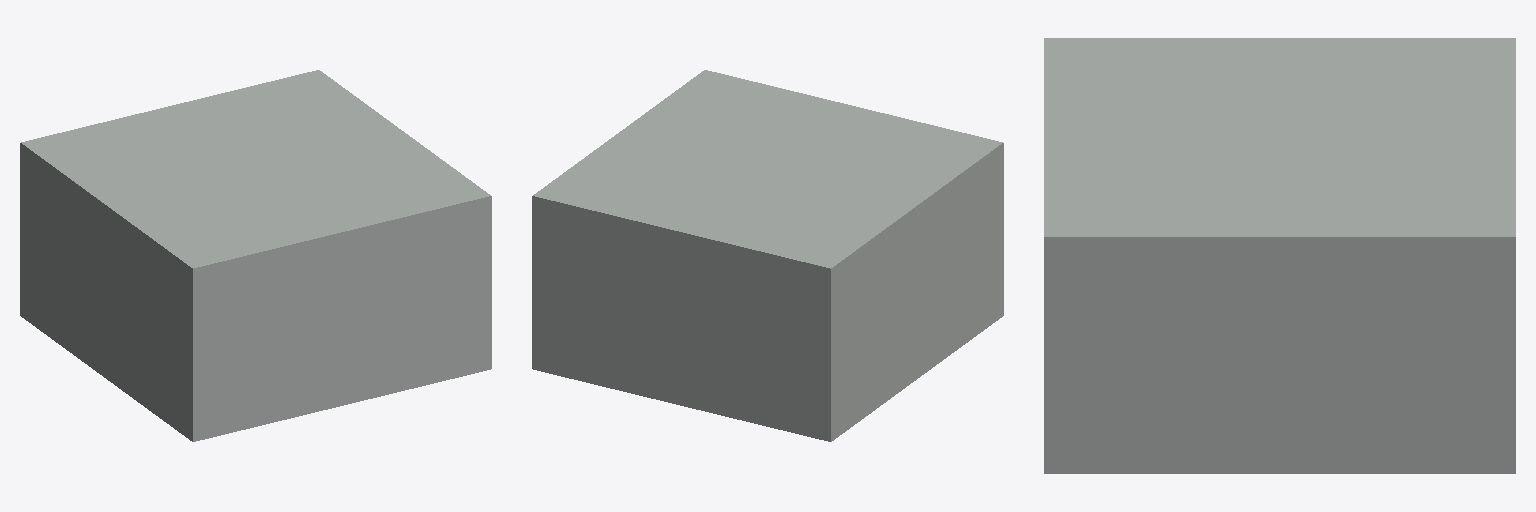
The robot description file, URDF, robot "rect":
<?xml version="1.0"?>
<robot name="rect">
  <link name="rect_base_link">
    <contact>
      <lateral_friction value="0.5"/>
      <spinning_friction value=".001"/>
    </contact>
    <inertial>
      <origin rpy="0 0 0" xyz="0 0 0"/>
      <mass value="2.0"/>
      <inertia ixx="1" ixy="0" ixz="0" iyy="1" iyz="0" izz="1"/>
    </inertial>
    <visual>
      <origin rpy="0 0 0" xyz="0.0 0.0 0.0"/>
      <geometry>
        <box size="0.09 0.09 0.05"/>
      </geometry>
      <material name="rectmat">
        <color rgba="0.7148 0.7344 0.7188 1"/>
      </material>
    </visual>
    <collision>
      <origin rpy="0 0 0" xyz="0.0 0.0 0.0"/>
      <geometry>
        <box size="0.09 0.09 0.05"/>
      </geometry>
    </collision>
  </link>
</robot>

--- Facts derived from the render (not from the file) ---
The picture shows the robot from 3 angles, left to right: view 1: azimuth 30°, elevation 25°; view 2: azimuth 150°, elevation 25°; view 3: azimuth 270°, elevation 25°; orthographic projection.
Robot: rect — 1 links, 0 joints (none); root link rect_base_link; default pose: all joints at 0.
Links seen in each view (by area): view 1: rect_base_link; view 2: rect_base_link; view 3: rect_base_link.
Link boxes in pixels (<box>): rect_base_link: <box>20,70,491,441</box>; rect_base_link: <box>532,70,1003,441</box>; rect_base_link: <box>1044,38,1515,473</box>.
Size in the robot's own frame: 0.09 by 0.09 by 0.05 metres.
Geometry: primitives only (box / cylinder / sphere), no mesh files.